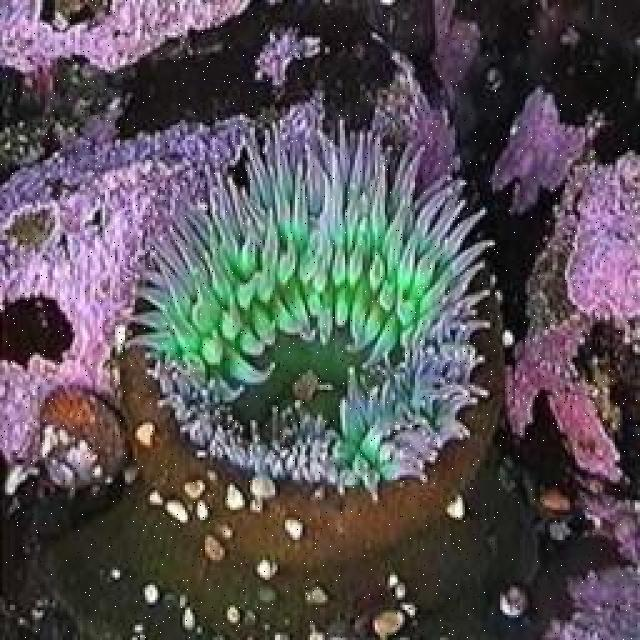reefs: (119, 118, 497, 502), (0, 118, 258, 465), (496, 89, 638, 485), (1, 1, 252, 71), (548, 565, 638, 638)
sea-floor: (0, 295, 76, 370)
